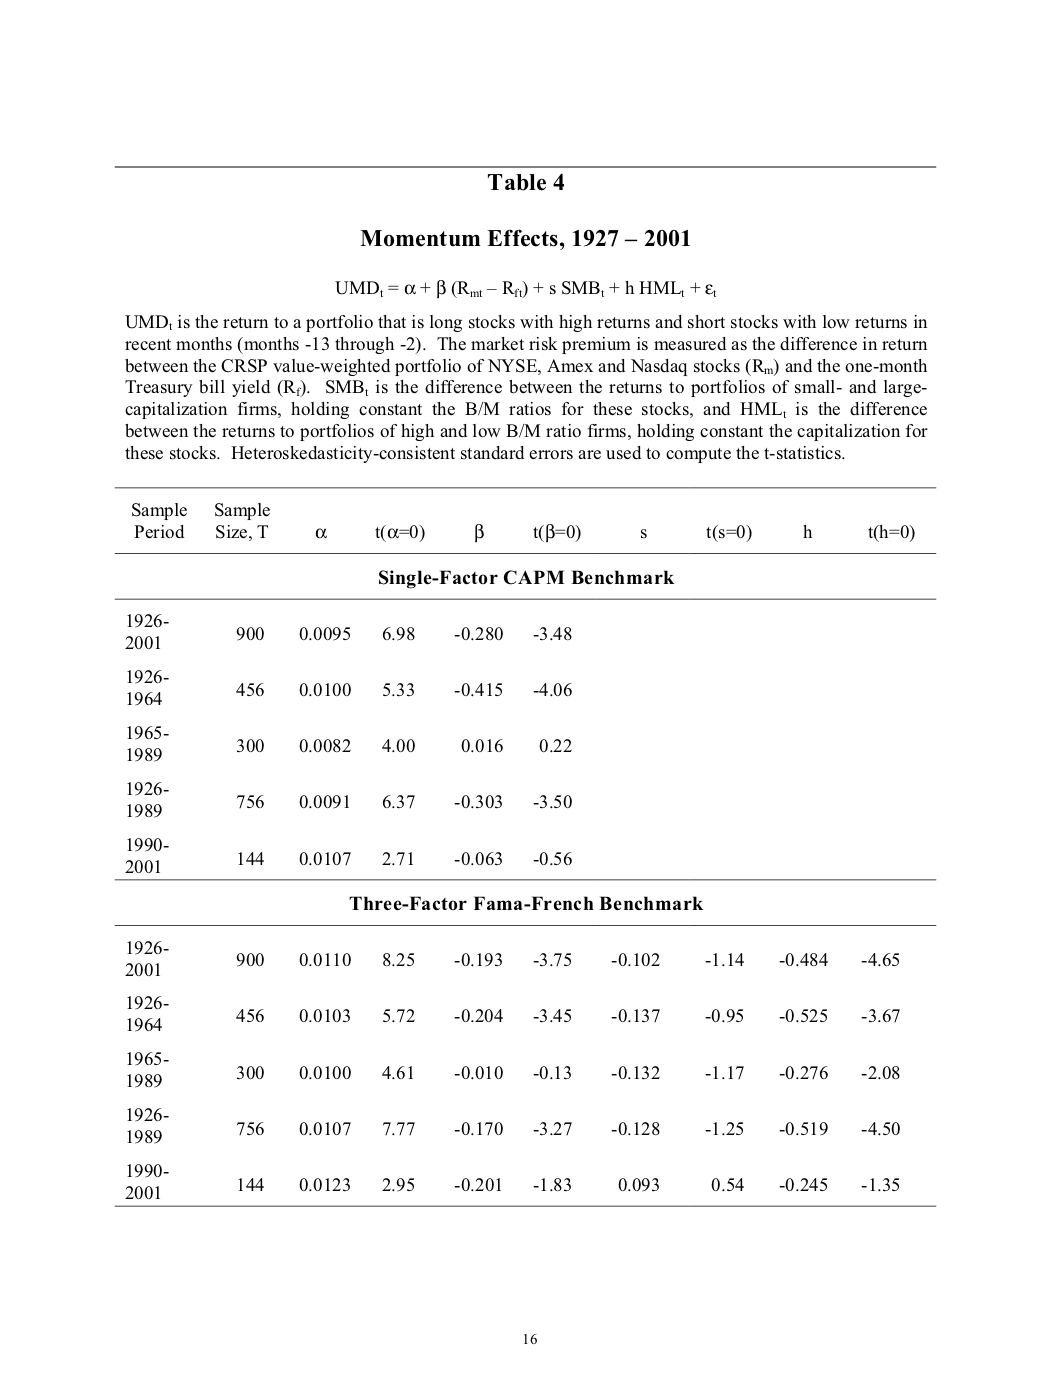Table: (114, 598, 936, 880), (114, 925, 936, 1206), (114, 487, 936, 553)
formula: (335, 279, 716, 299)
